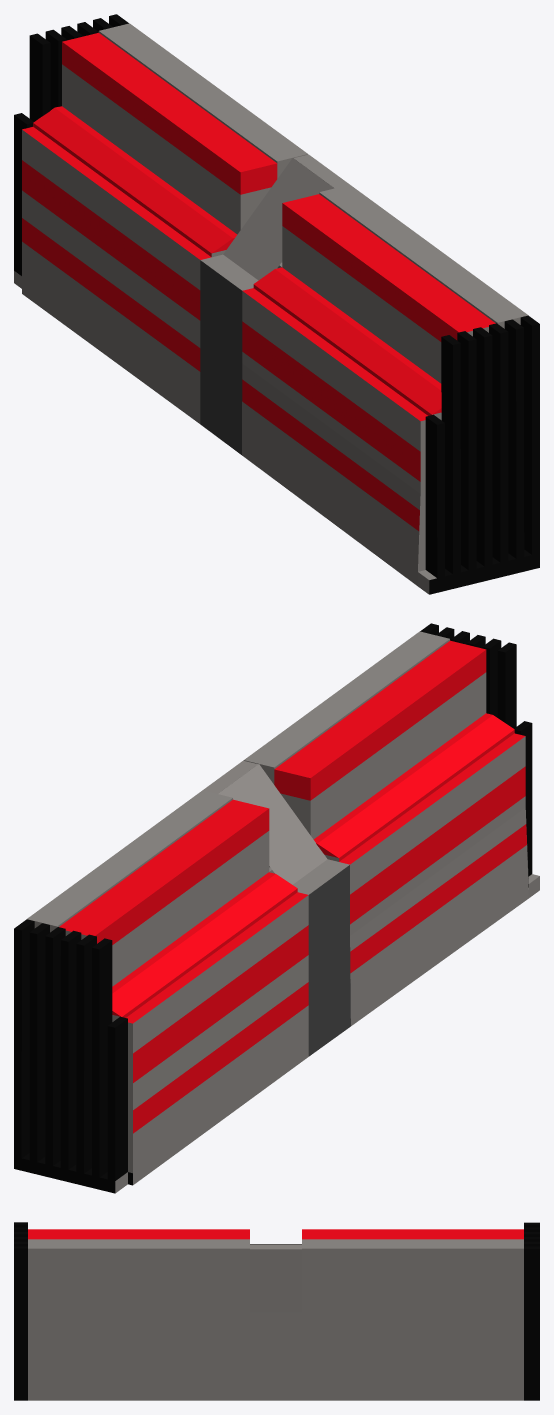
The model's file is closed bleachers.fbx.
3 views of the same model, one above another, from view 1: azimuth 30°, elevation 25°; view 2: azimuth 150°, elevation 25°; view 3: azimuth 270°, elevation 25° (orthographic). The views are drawn at different scales.
Visible parts, largest first — view 1: Cube.002; view 2: Cube.002; view 3: Cube.002.
Part boxes in pixels (x1,y1,x2,y2): Cube.002: (14, 14, 539, 594); Cube.002: (14, 623, 539, 1193); Cube.002: (14, 1222, 539, 1400).
Size of the model in its own units: 721 by 1509 by 4741.
